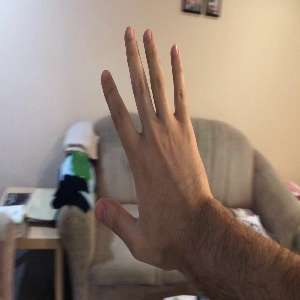hand: (97, 27, 208, 261)
